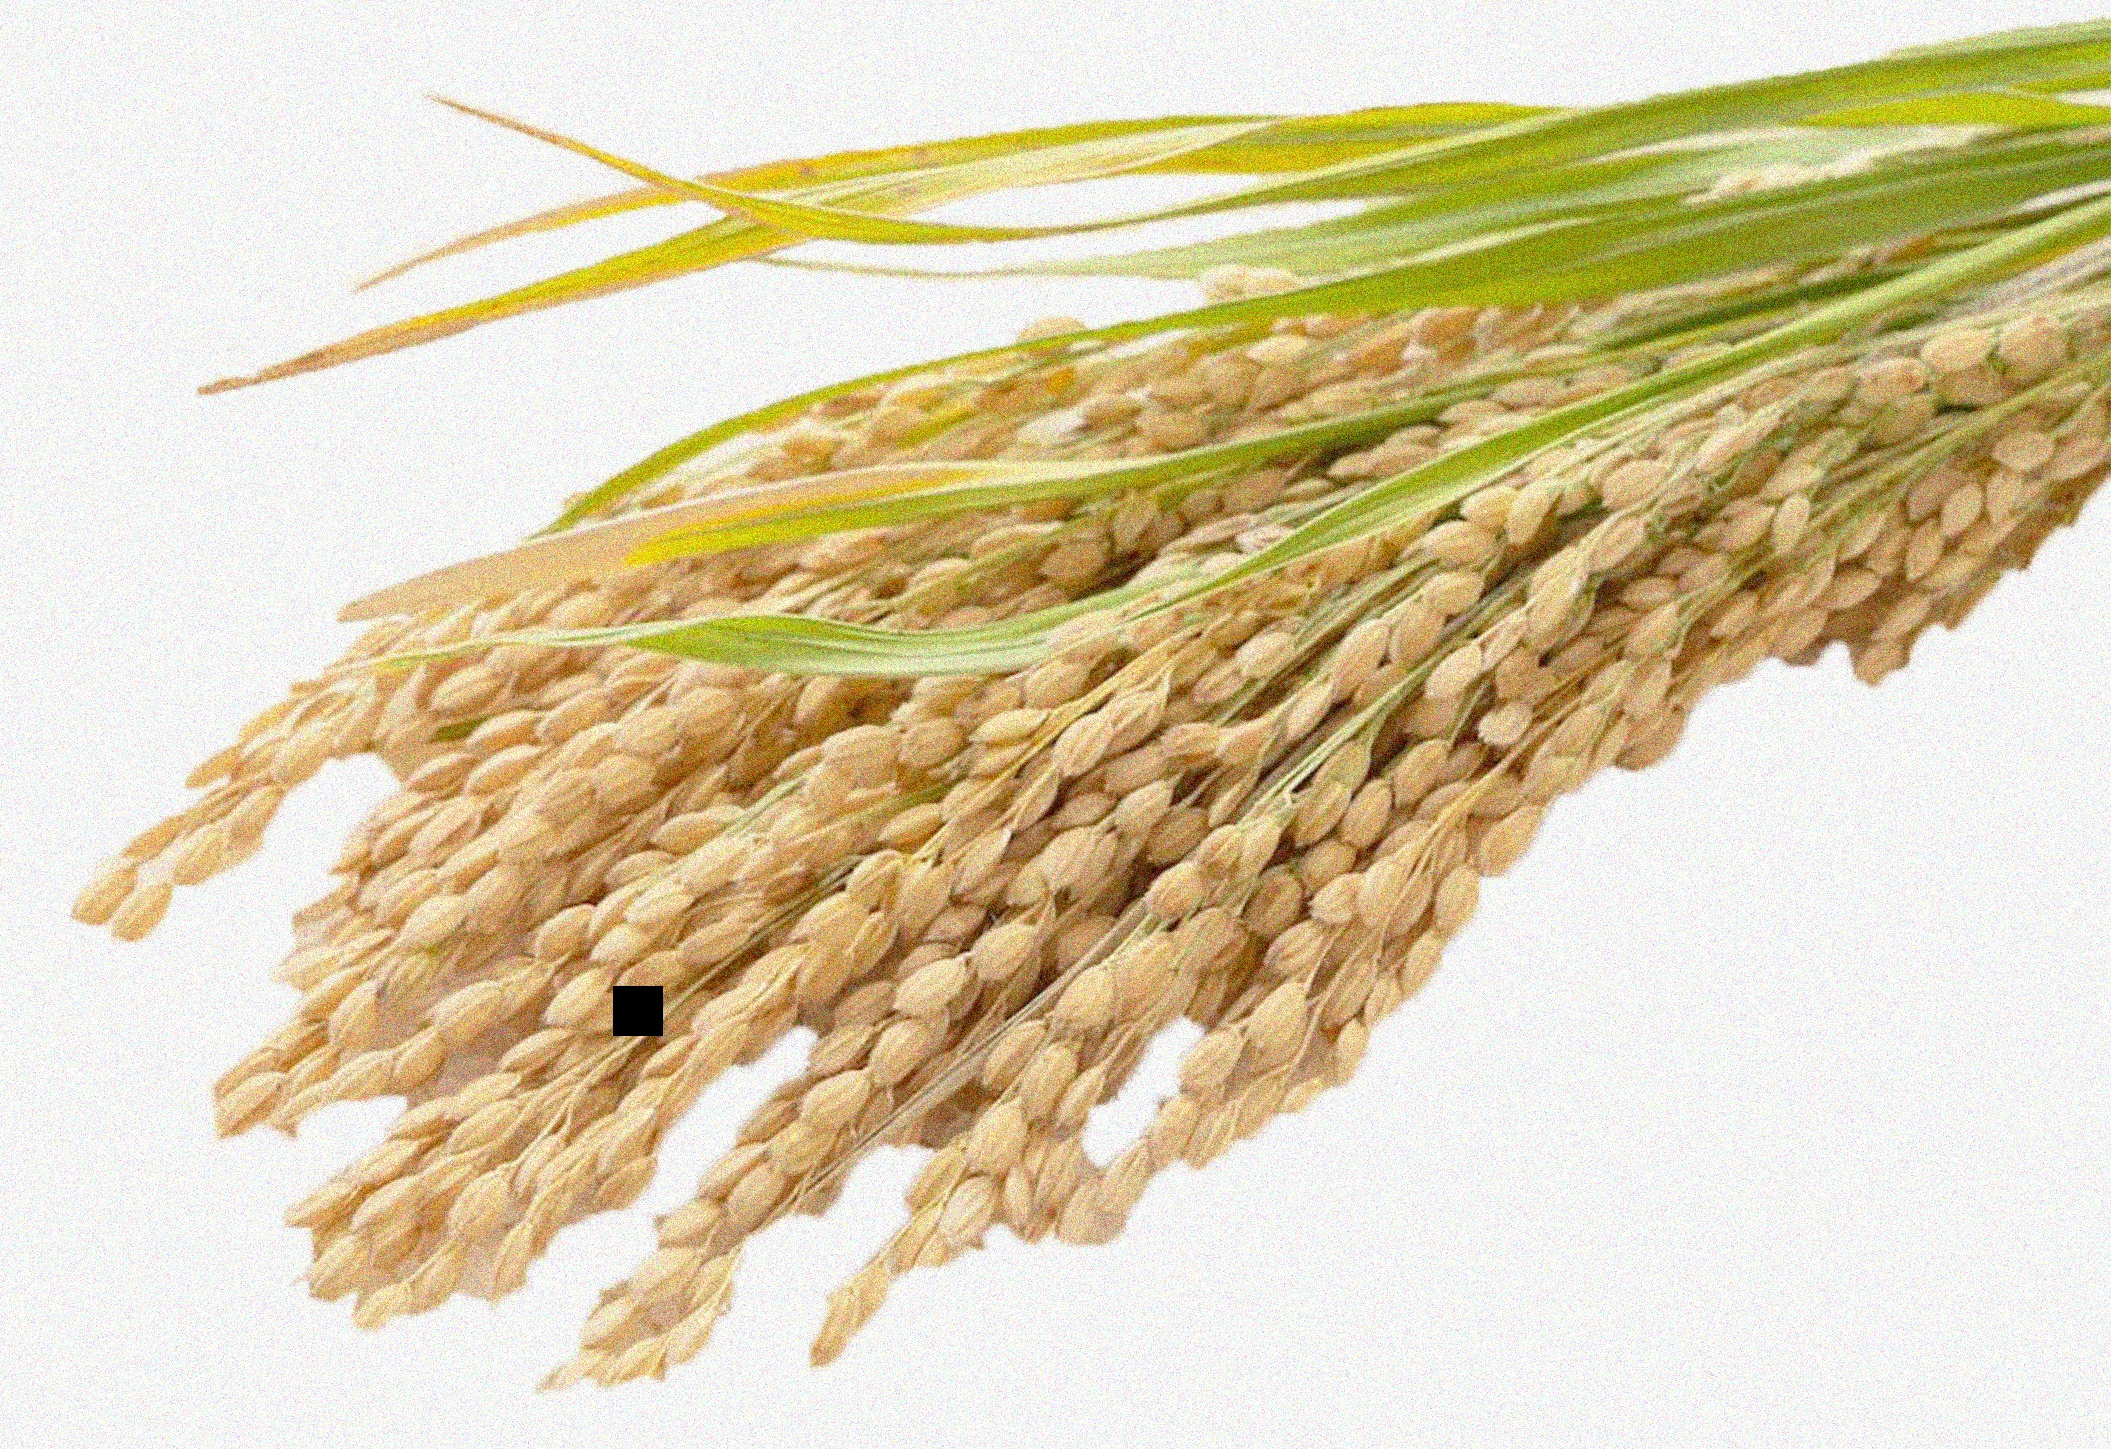rice: (16, 157, 2108, 1422)
